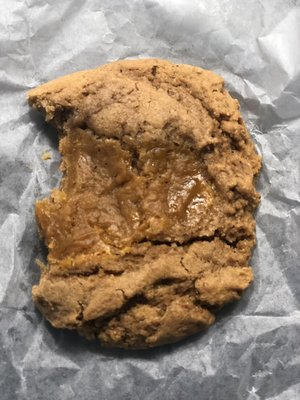sushi: (24, 55, 263, 347)
